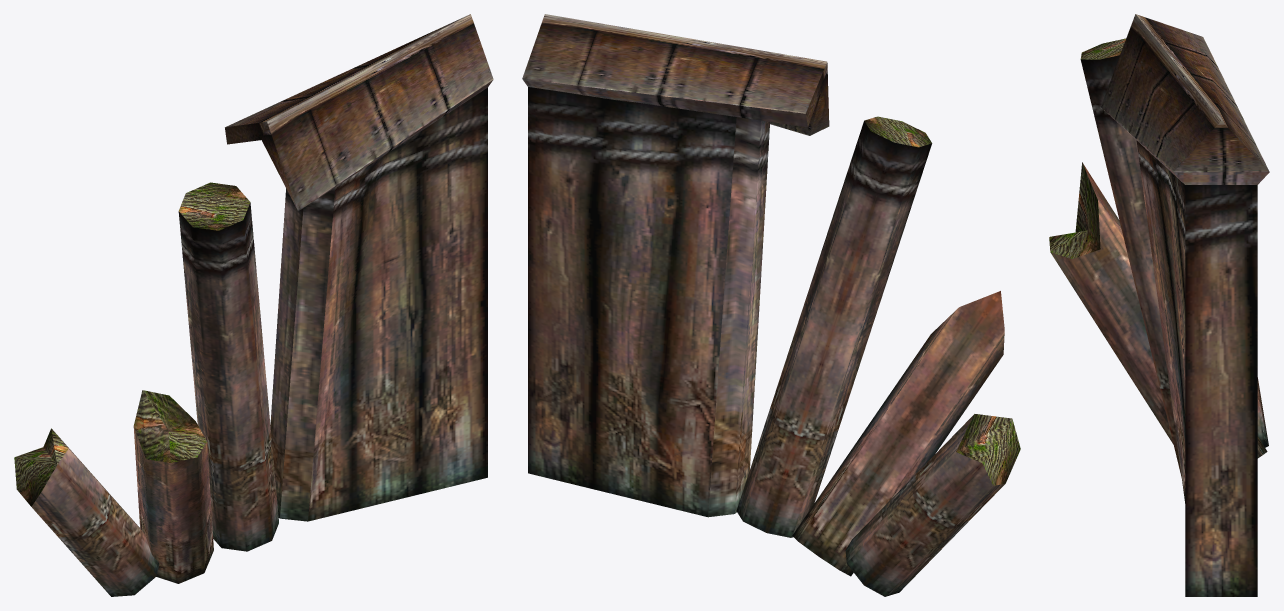
File: S_RFWal2.glb
3 renders of one model, left to right at view 1: azimuth 30°, elevation 25°; view 2: azimuth 150°, elevation 25°; view 3: azimuth 270°, elevation 25°, orthographic. The views are drawn at different scales.
Visible parts, largest first — view 1: S_RFWal2-col; view 2: S_RFWal2-col; view 3: S_RFWal2-col.
Boxes of the visible parts, left/top/right/bottom form: S_RFWal2-col: left=14, top=14, right=493, bottom=596; S_RFWal2-col: left=522, top=14, right=1020, bottom=596; S_RFWal2-col: left=1049, top=14, right=1269, bottom=596.
Size of the model in its own units: 3.9 by 4.07 by 1.55.
4 materials, 4 textured.
